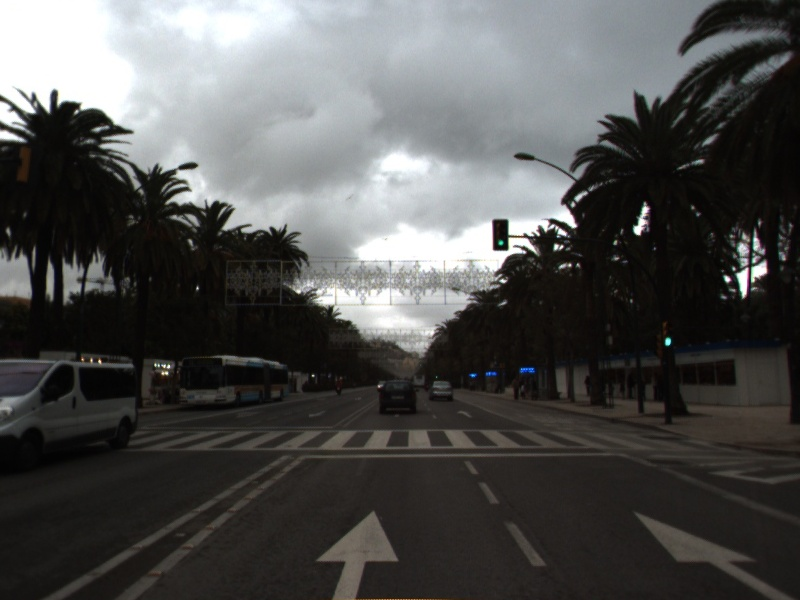STRAIGHT: (630, 508, 796, 600), (311, 506, 403, 600), (455, 408, 474, 419)
